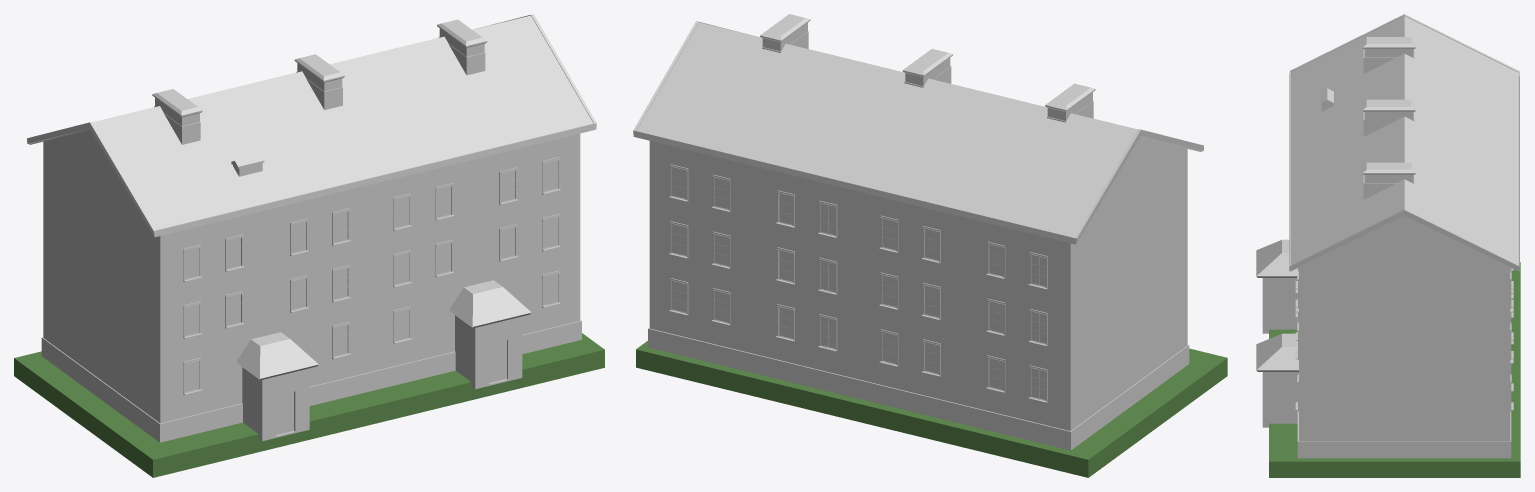
3 views of the same model, side by side, from view 1: azimuth 30°, elevation 25°; view 2: azimuth 150°, elevation 25°; view 3: azimuth 270°, elevation 25° (orthographic). The views are drawn at different scales.
Parts seen in each view (by area): view 1: Cube.080; view 2: Cube.080; view 3: Cube.080.
Boxes of the visible parts, box(x1,y1,x2,y2) form: Cube.080: box(14, 14, 604, 477); Cube.080: box(633, 14, 1227, 477); Cube.080: box(1256, 14, 1520, 477).
Bounding box in the file's own units: 2456 × 1583 × 1364.
